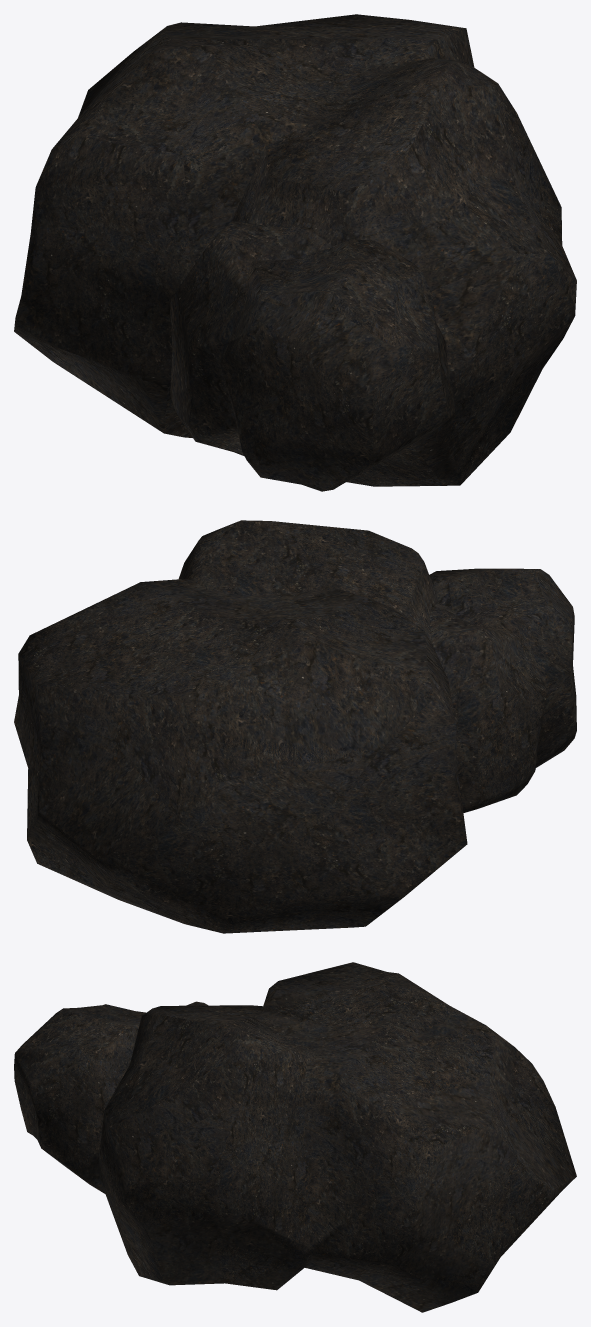
The model's file is rocher05.gltf.
The picture shows the model from 3 angles, top to bottom: view 1: azimuth 30°, elevation 25°; view 2: azimuth 150°, elevation 25°; view 3: azimuth 270°, elevation 25°; orthographic projection. The views are drawn at different scales.
Visible parts, largest first — view 1: Cube.003; view 2: Cube.003; view 3: Cube.003.
Boxes of the visible parts, box(x1,y1,x2,y2) form: Cube.003: box(14, 14, 576, 491); Cube.003: box(14, 520, 576, 933); Cube.003: box(14, 962, 576, 1312).
Size of the model in its own units: 12.06 by 8.59 by 15.58.
Materials: 1 (1 with a texture image).
